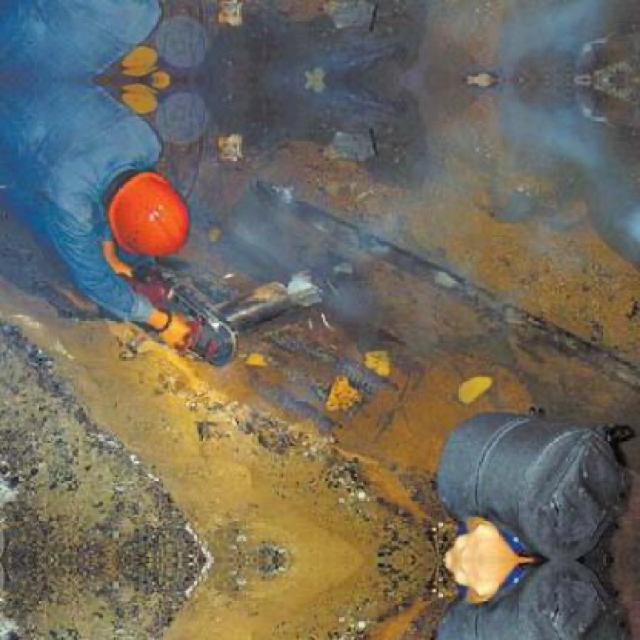con casco: (41, 154, 212, 278)
